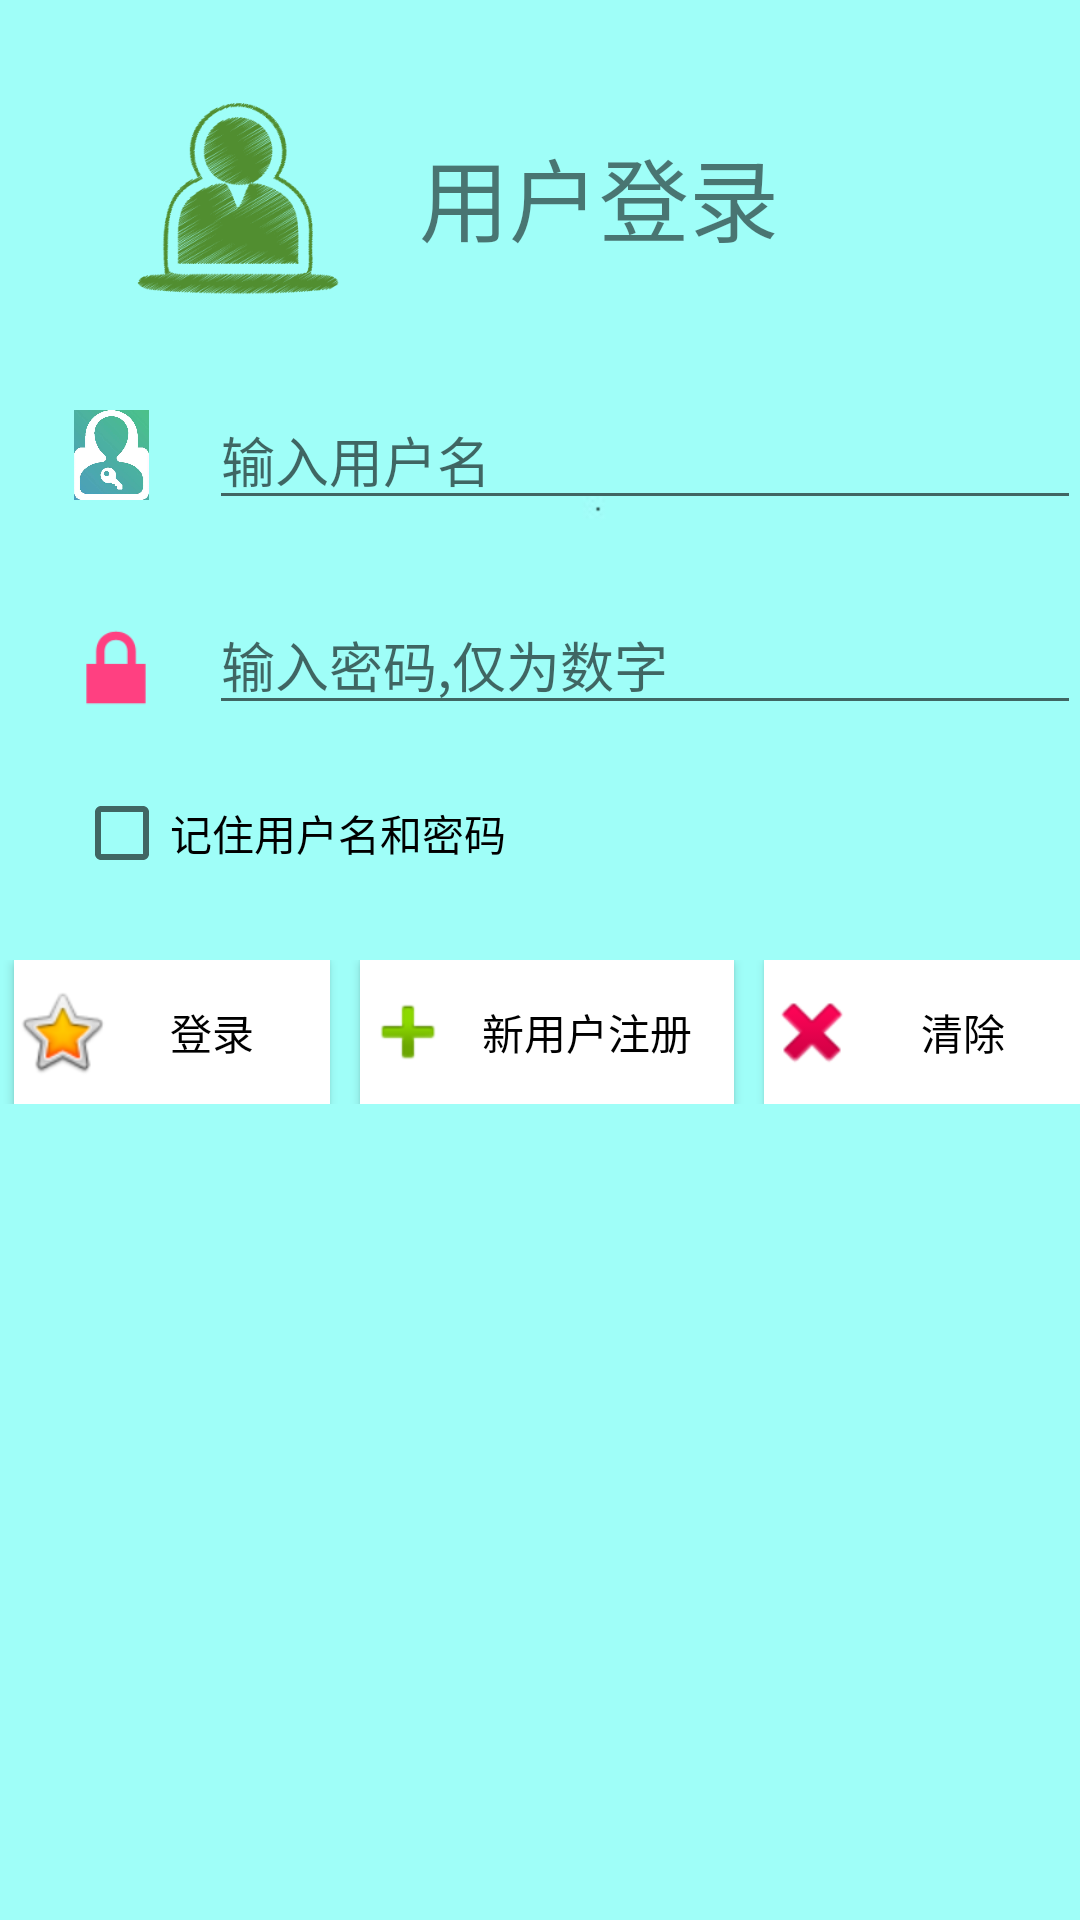

Where icons sit on this 1080×1920 app screen, as bbox(x1, y1, x2, y2):
lock: bbox(86, 631, 146, 704)
user: bbox(74, 410, 149, 500)
user login: bbox(138, 103, 339, 294)
